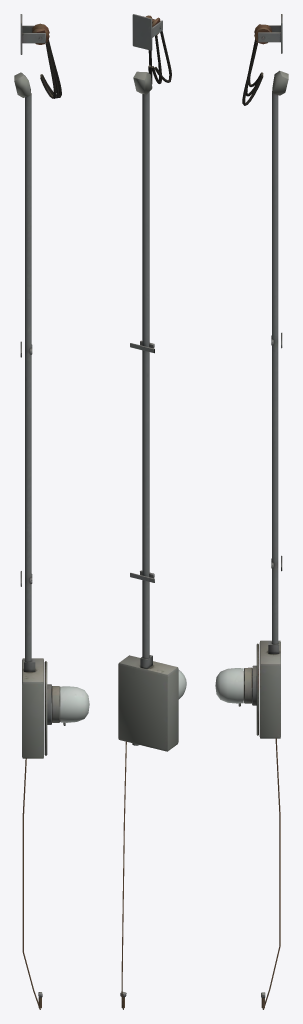
Rendered from service_mast_low-low.glb.
3 views of the same model, side by side, from view 1: azimuth 90°, elevation 25°; view 2: azimuth 150°, elevation 25°; view 3: azimuth 270°, elevation 25° (orthographic). The views are drawn at different scales.
Visible parts, largest first — view 1: service_mast_low; view 2: service_mast_low; view 3: service_mast_low.
Part boxes in pixels (x1=…): service_mast_low: x1=14, y1=14, x2=89, y2=1009; service_mast_low: x1=118, y1=14, x2=186, y2=1009; service_mast_low: x1=215, y1=14, x2=288, y2=1009.
Size of the model in its own units: 0.2923 by 5.04 by 0.3421.
2 materials, 2 textured.
